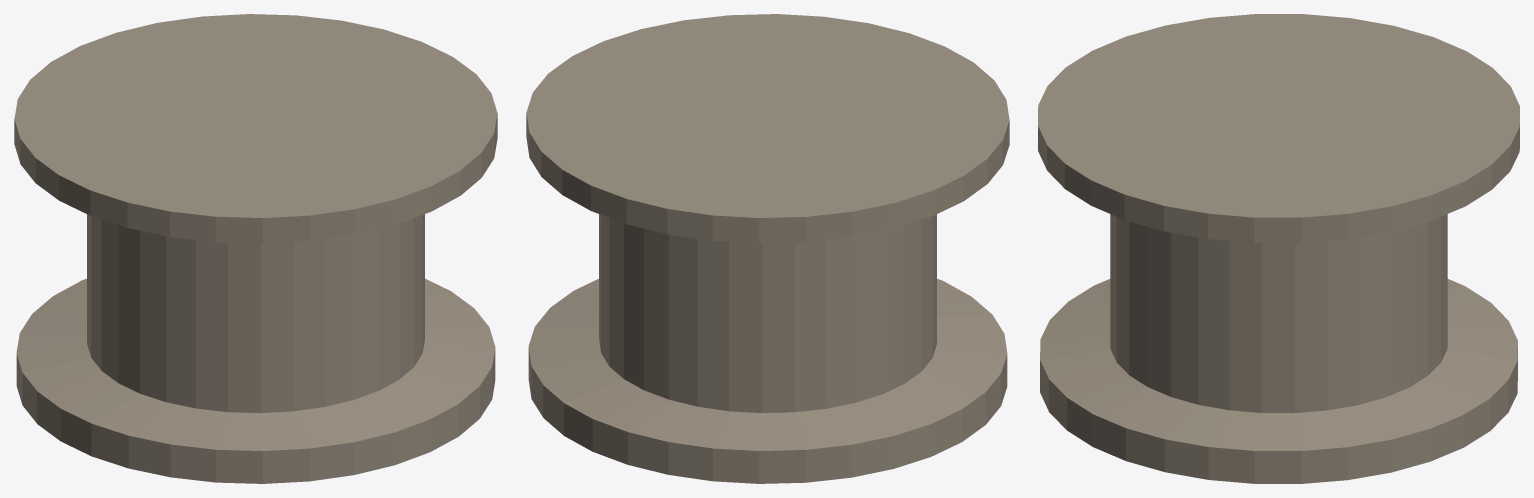
File: circle.195_lev3.glb
3 views of the same model, side by side, from view 1: azimuth 30°, elevation 25°; view 2: azimuth 150°, elevation 25°; view 3: azimuth 270°, elevation 25° (orthographic).
Visible parts, largest first — view 1: circle.195_lev3; view 2: circle.195_lev3; view 3: circle.195_lev3.
Part boxes in pixels (left/top/right/bottom): circle.195_lev3: left=14, top=14, right=497, bottom=483; circle.195_lev3: left=526, top=14, right=1009, bottom=483; circle.195_lev3: left=1038, top=14, right=1519, bottom=483.
Bounding box in the file's own units: 0.3252 × 0.1989 × 0.3252.
1 material, 1 textured.
